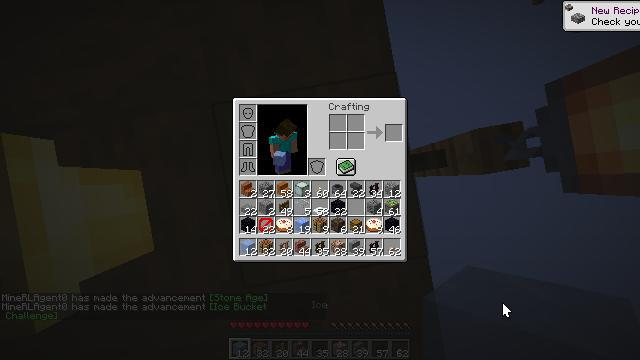cursor: (502, 302, 512, 318)
